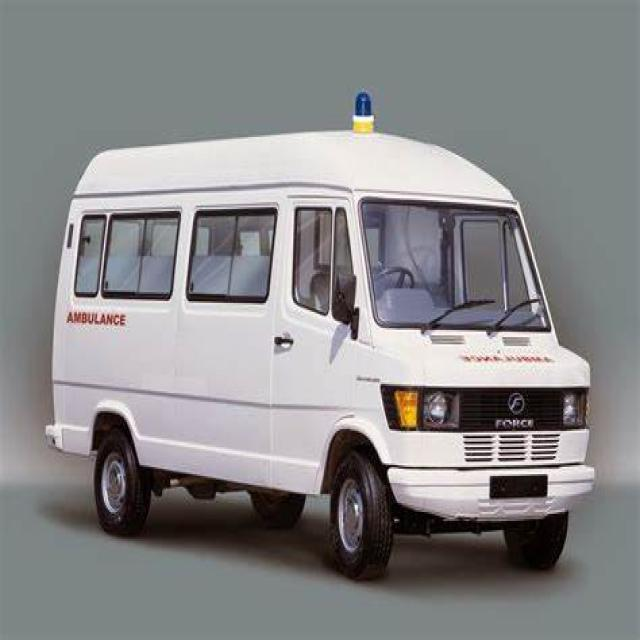ambulance: (348, 92, 383, 144)
